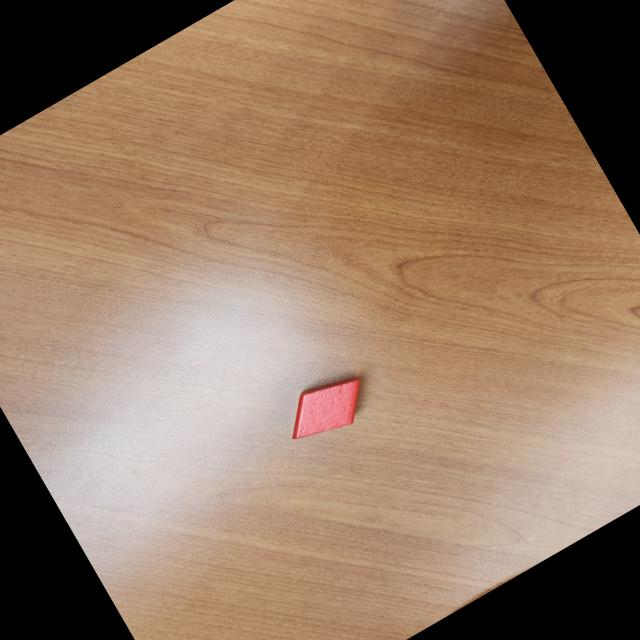red: (276, 363, 378, 453)
